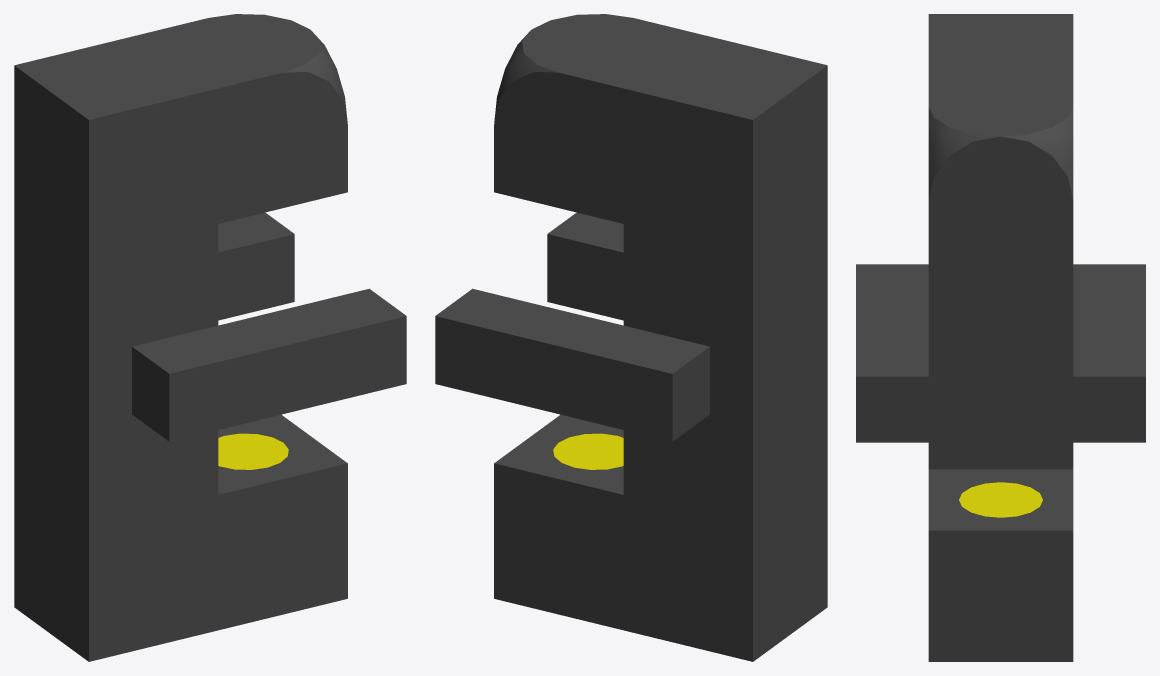
3 renders of one model, left to right at view 1: azimuth 30°, elevation 25°; view 2: azimuth 150°, elevation 25°; view 3: azimuth 270°, elevation 25°, orthographic. The views are drawn at different scales.
Parts seen in each view (by area): view 1: Cube.001; view 2: Cube.001; view 3: Cube.001.
Boxes of the visible parts, <box> form: Cube.001: <box>14,14,406,661</box>; Cube.001: <box>435,14,827,661</box>; Cube.001: <box>856,14,1145,661</box>.
Size of the model in its own units: 433 by 800 by 400.
